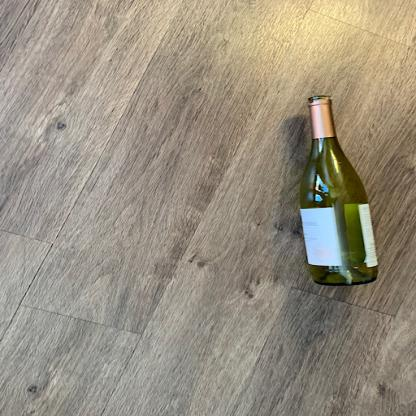trash: (297, 92, 382, 287)
